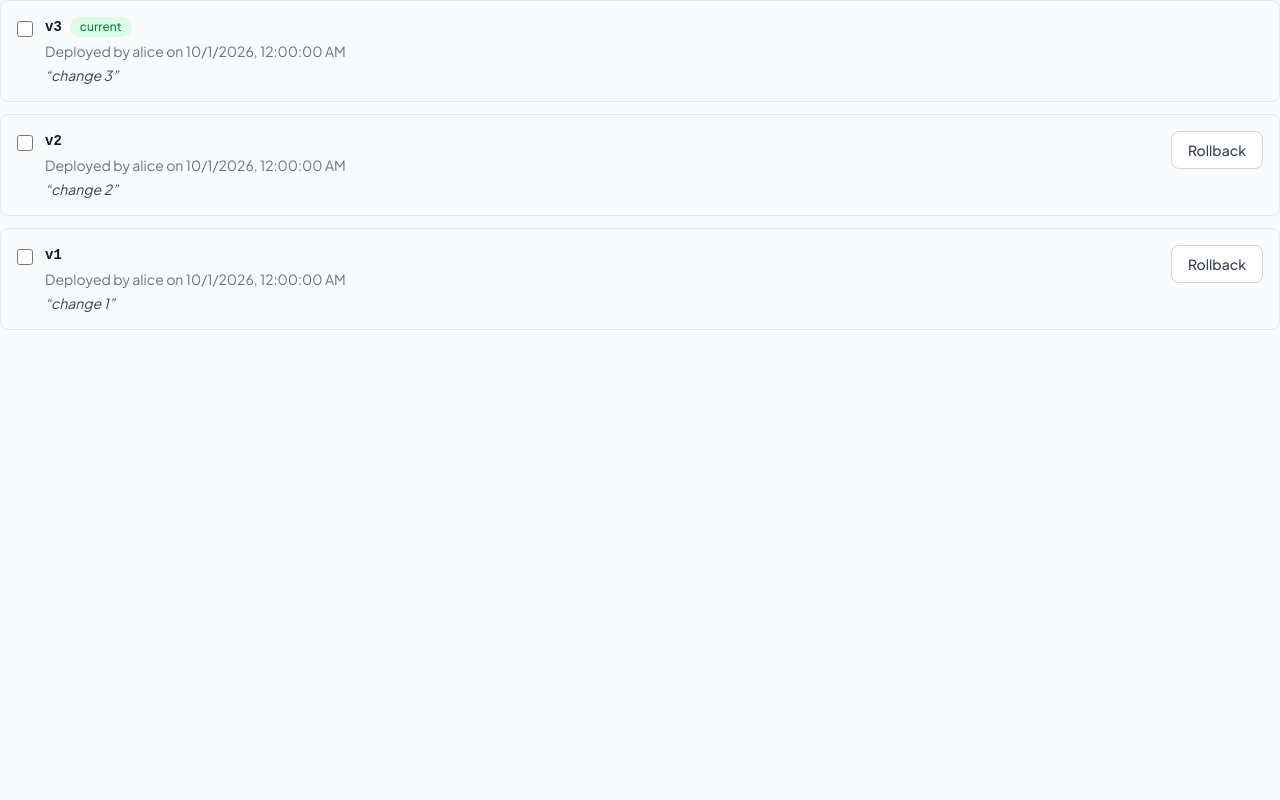
compares two selected versions in VersionCompareModal
Expected: the element with test id "version-v3" is shown, [0,0,1279,102]
What coordinates should you click on to do the following:
click the checkbox named "Select v3"
I would click on:
 (25, 29)
Its box is [17,21,33,37].
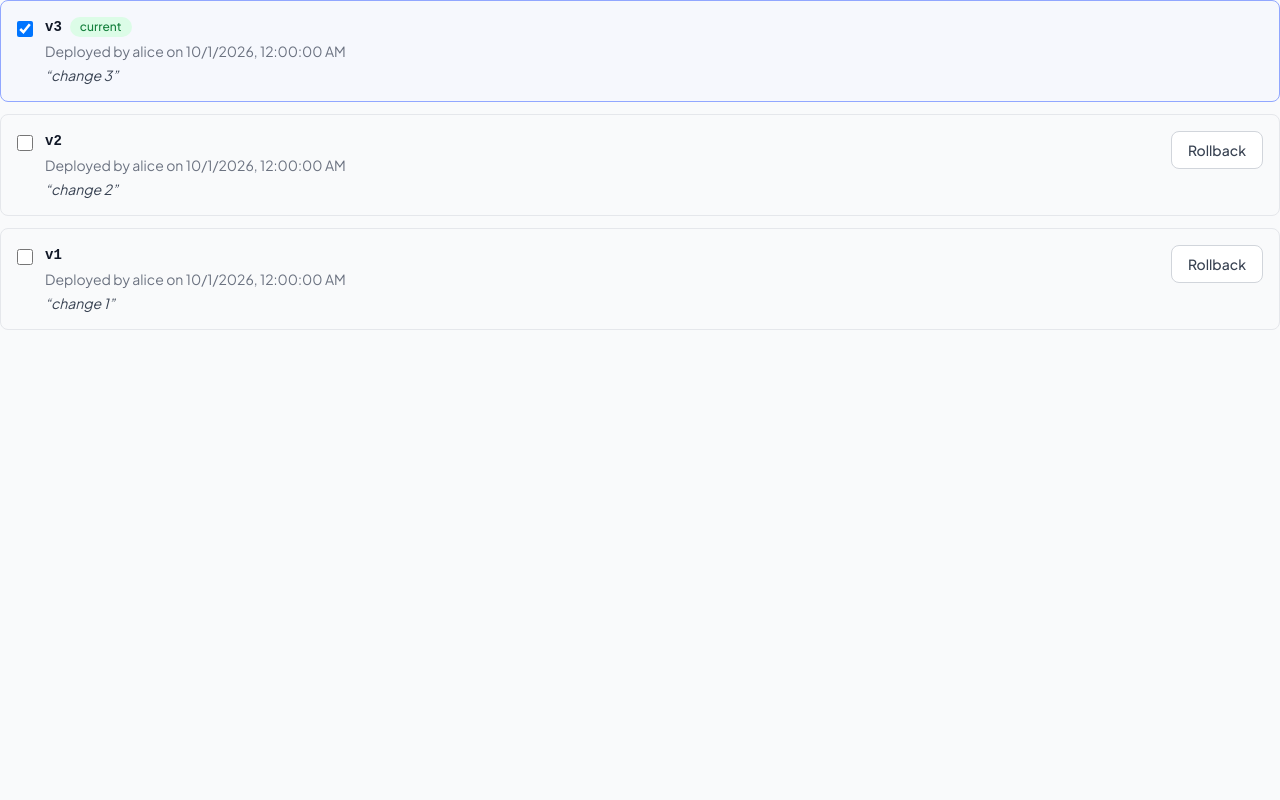
What coordinates should you click on to do the following:
click the checkbox named "Select v1"
I would click on:
 (25, 257)
Its box is [17,249,33,265].
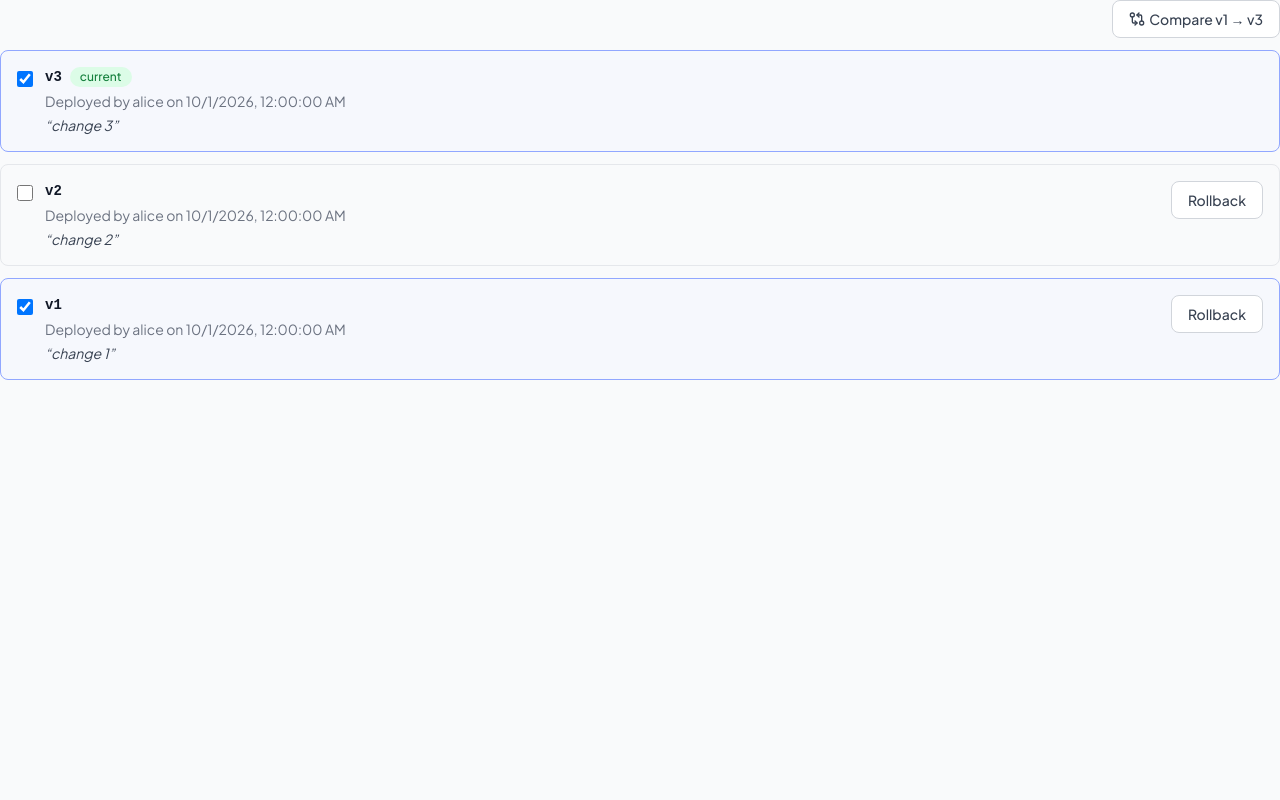
What coordinates should you click on to do the following:
click the button "Compare v1 → v3"
I would click on:
 (1196, 19)
Its box is [1112,0,1279,38].
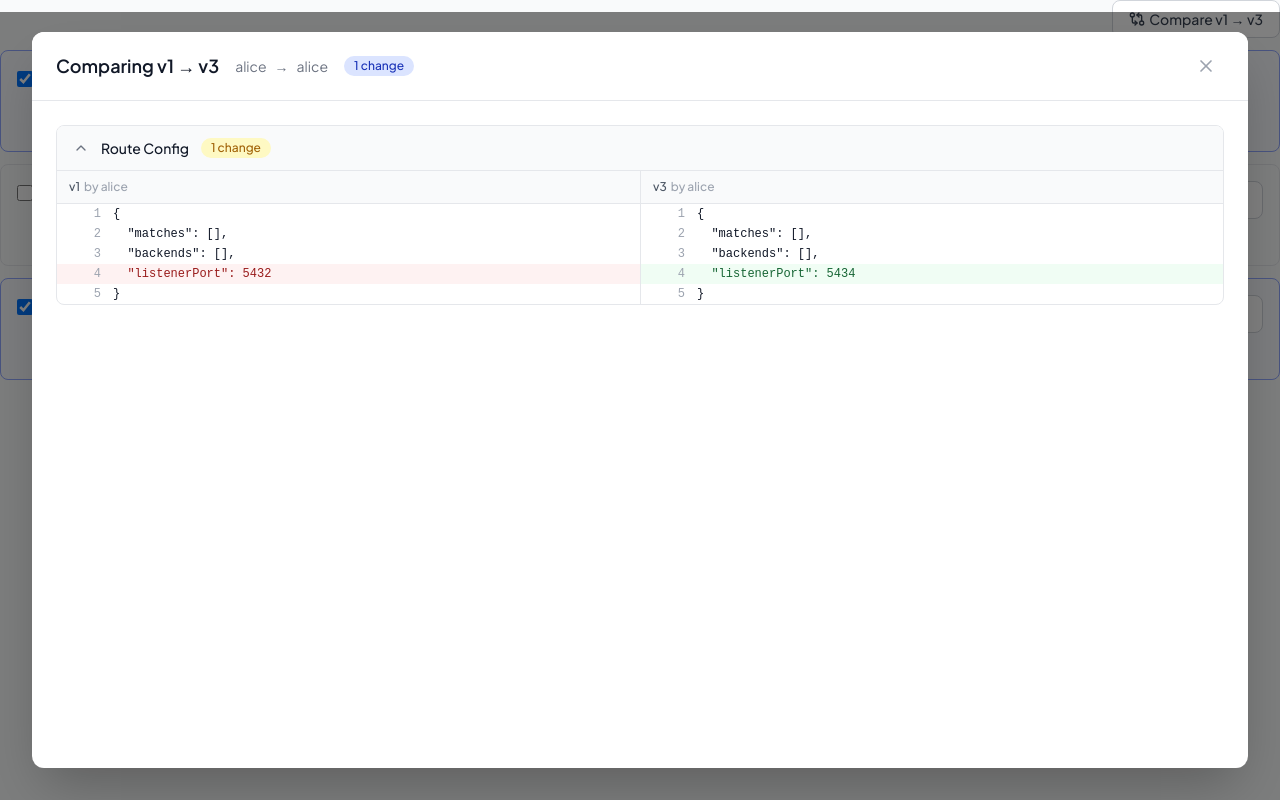
Result: the heading "Comparing v1 → v3" is shown at [56,52,219,80]
